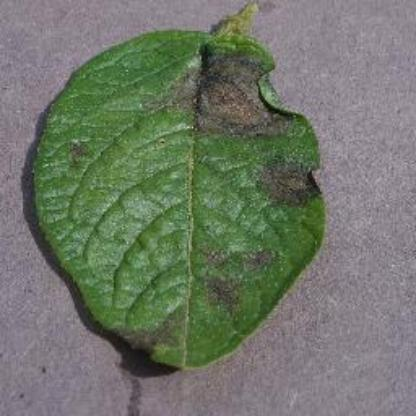Late-Blight: (26, 6, 332, 374)
